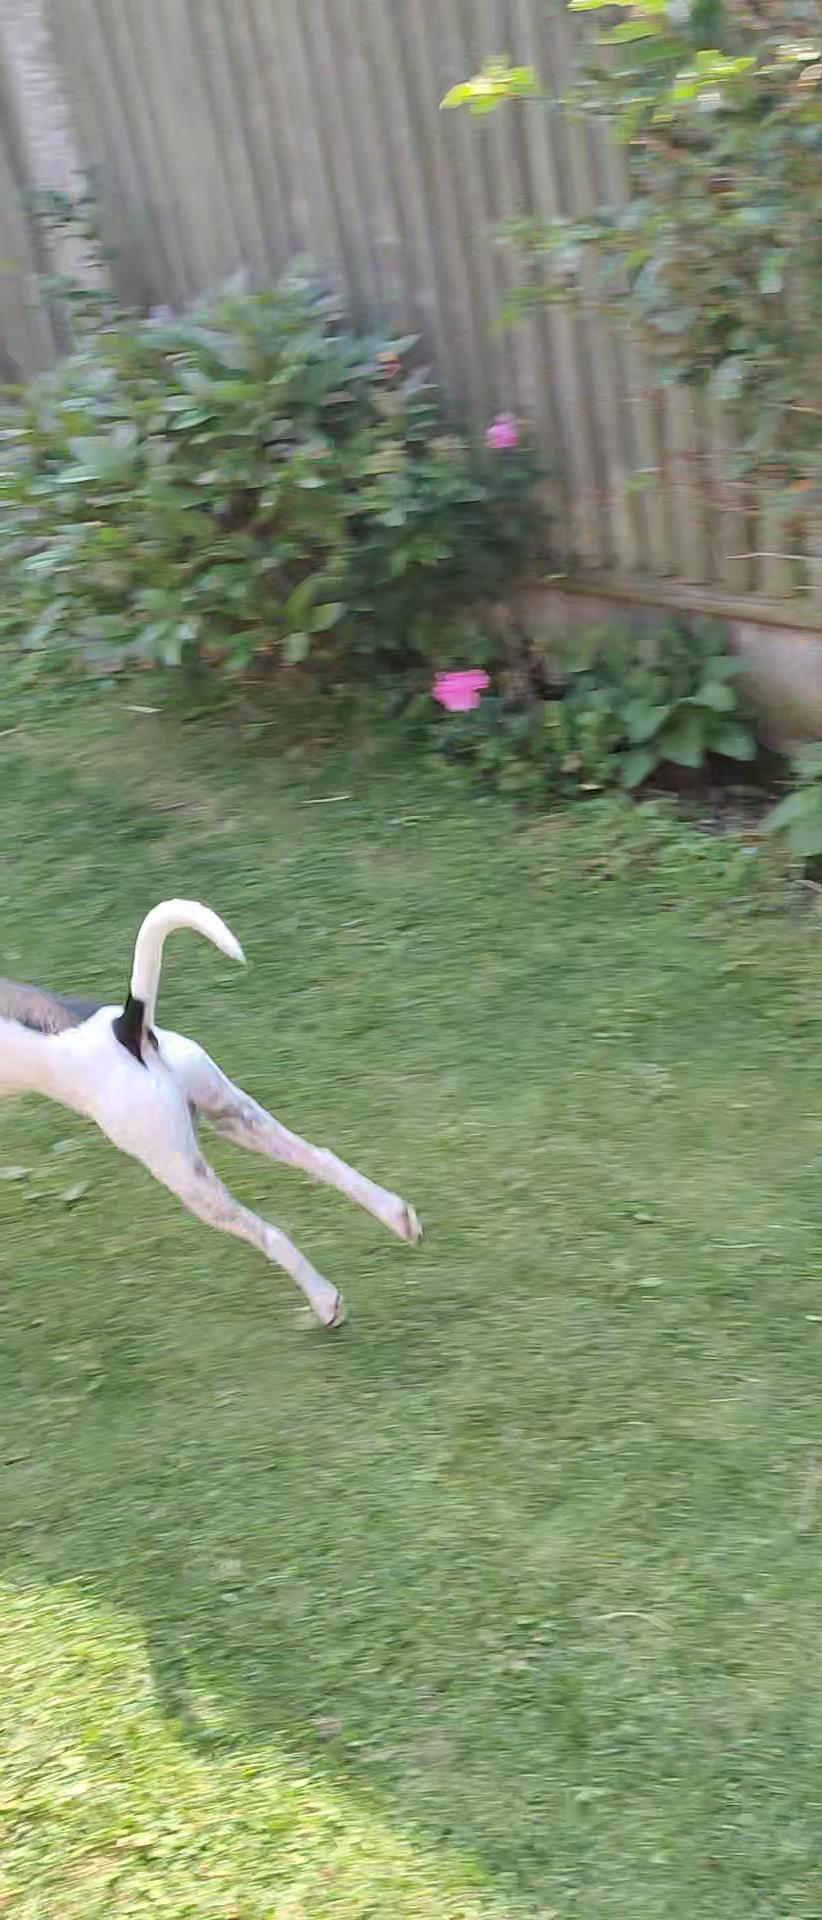Dog: (0, 885, 440, 1359)
